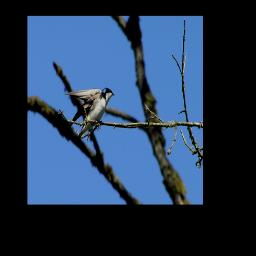Swallow: (64, 86, 115, 142)
